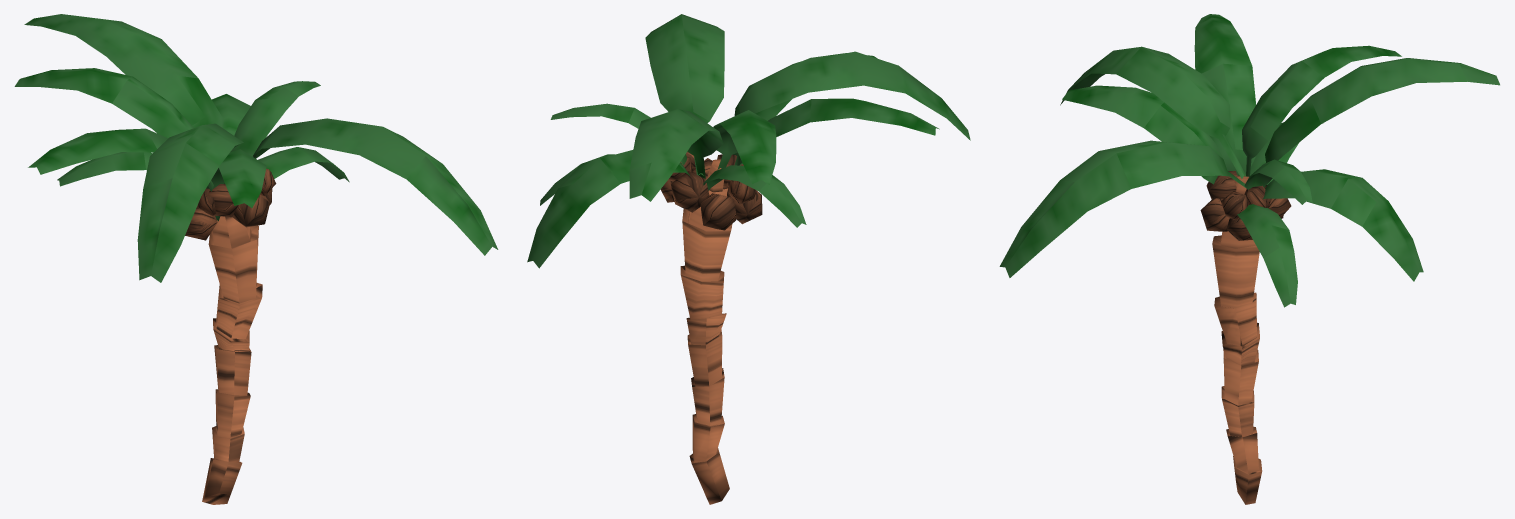
The model's file is palm_tree_002.glb.
The picture shows the model from 3 angles, left to right: view 1: azimuth 30°, elevation 25°; view 2: azimuth 150°, elevation 25°; view 3: azimuth 270°, elevation 25°; orthographic projection. The views are drawn at different scales.
Parts seen in each view (by area): view 1: Plane.001, Cylinder, Icosphere.001; view 2: Plane.001, Cylinder, Icosphere.001; view 3: Plane.001, Cylinder, Icosphere.001.
Part boxes in pixels (<box>): Plane.001: <box>14,14,498,282</box>; Cylinder: <box>202,216,262,504</box>; Icosphere.001: <box>185,168,276,240</box>; Plane.001: <box>527,14,970,268</box>; Cylinder: <box>680,159,732,504</box>; Icosphere.001: <box>660,151,762,230</box>; Plane.001: <box>999,14,1499,307</box>; Cylinder: <box>1212,175,1262,504</box>; Icosphere.001: <box>1200,171,1291,240</box>.
Bounding box in the file's own units: 11.19 × 12.86 × 13.67.
Materials: 2 (2 with a texture image).
